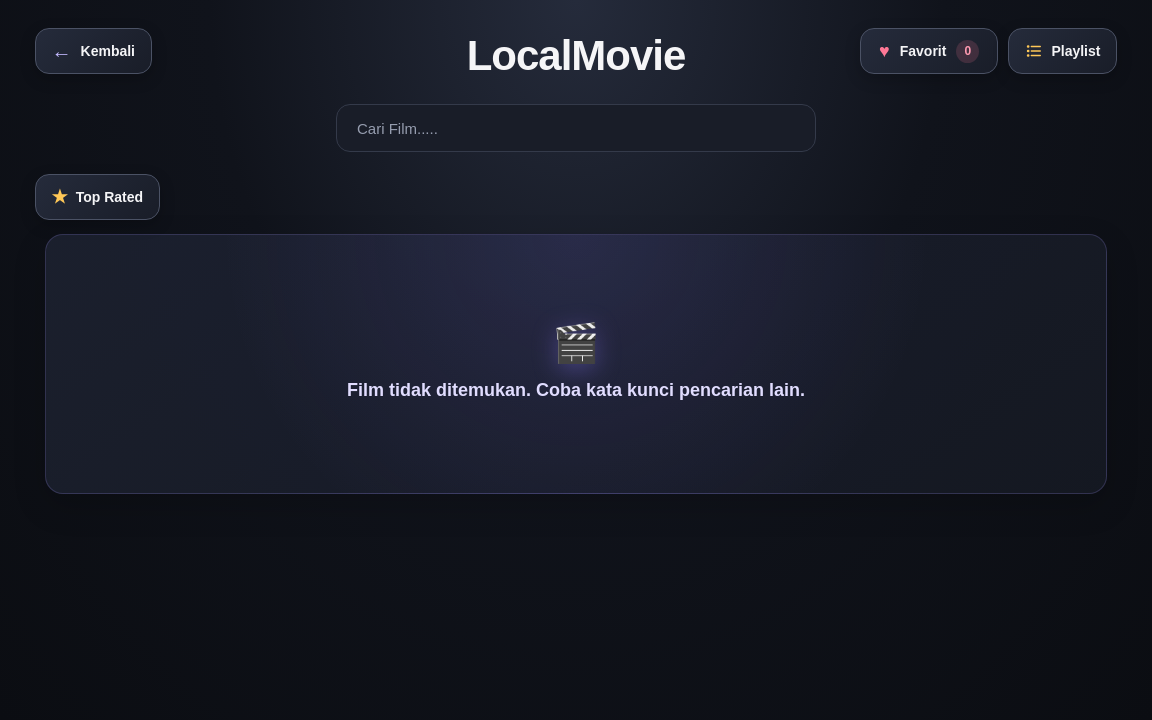
Test: loads and displays the top-rated movie list
Click the button "★ Top Rated" at (97, 197), box [34,174,160,220]
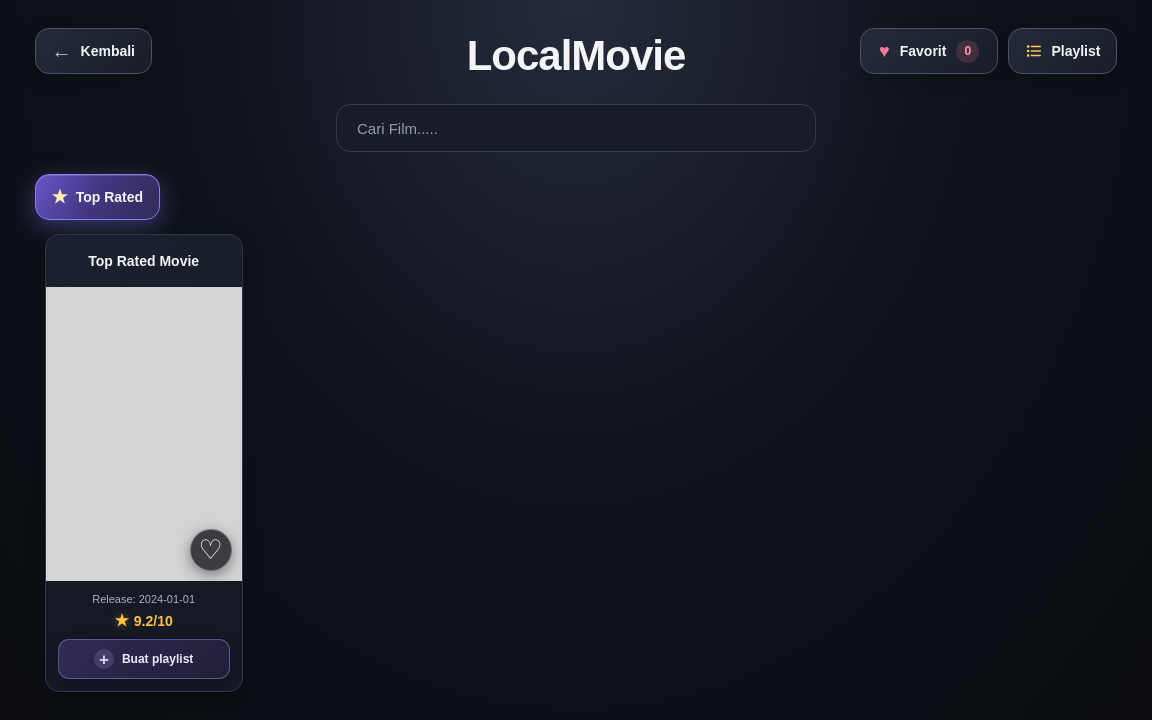
expect the button "Top Rated Movie" is shown: met, box [46,235,242,287]
